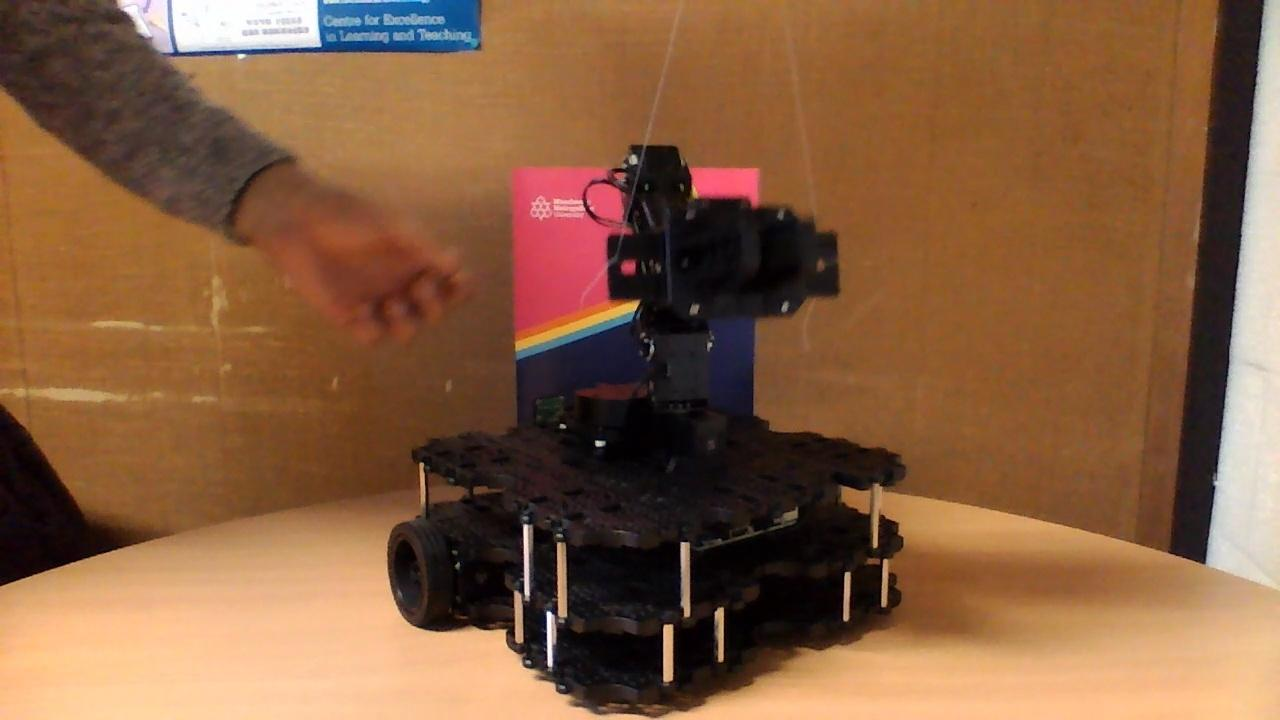Arm: (607, 140, 715, 381)
Hand: (600, 196, 844, 322)
base: (386, 380, 911, 710)
